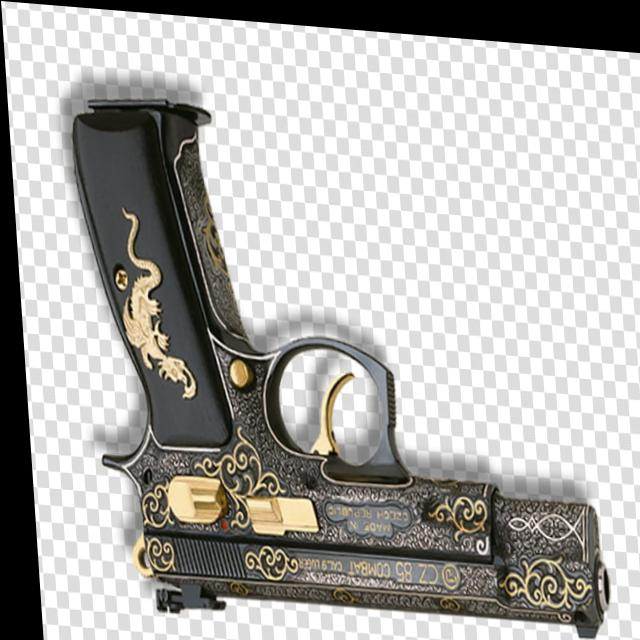handgun: (57, 84, 604, 636)
